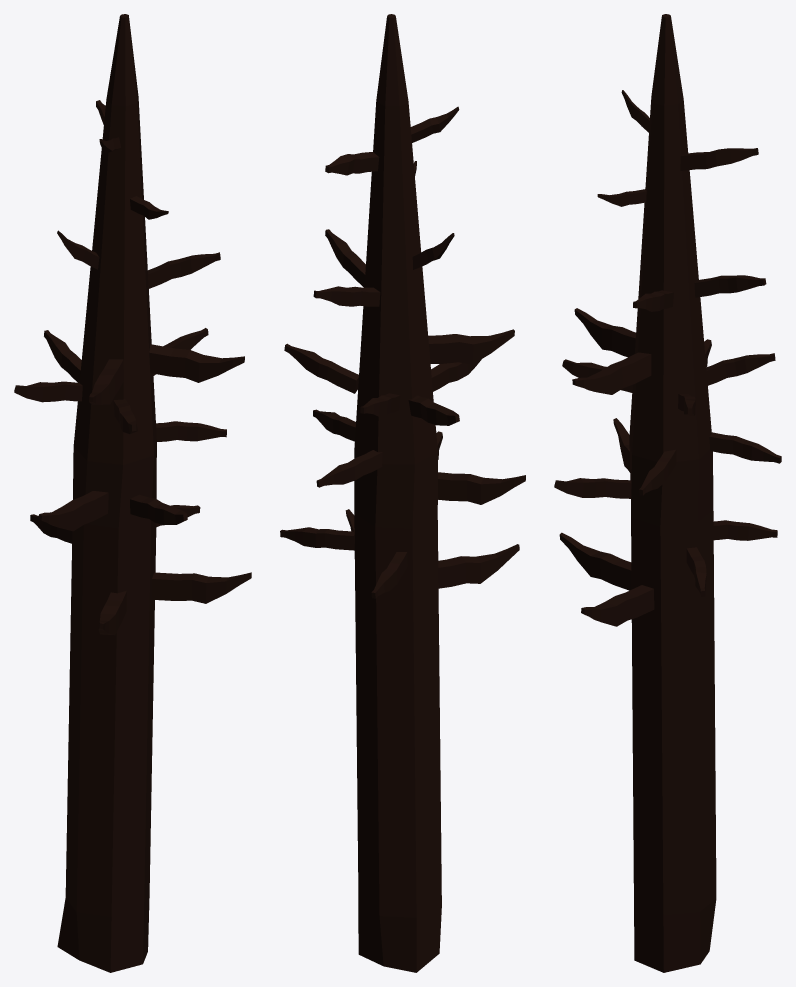
File: deadtreeforest2noelle.obj
3 renders of one model, left to right at view 1: azimuth 30°, elevation 25°; view 2: azimuth 150°, elevation 25°; view 3: azimuth 270°, elevation 25°, orthographic.
Parts seen in each view (by area): view 1: Cube.001; view 2: Cube.001; view 3: Cube.001.
Boxes of the visible parts, x1,y1,x2,y2 form: Cube.001: (14, 14, 251, 972); Cube.001: (280, 14, 525, 972); Cube.001: (554, 14, 781, 972).
Bounding box in the file's own units: 0.9879 × 4.33 × 0.9419.
